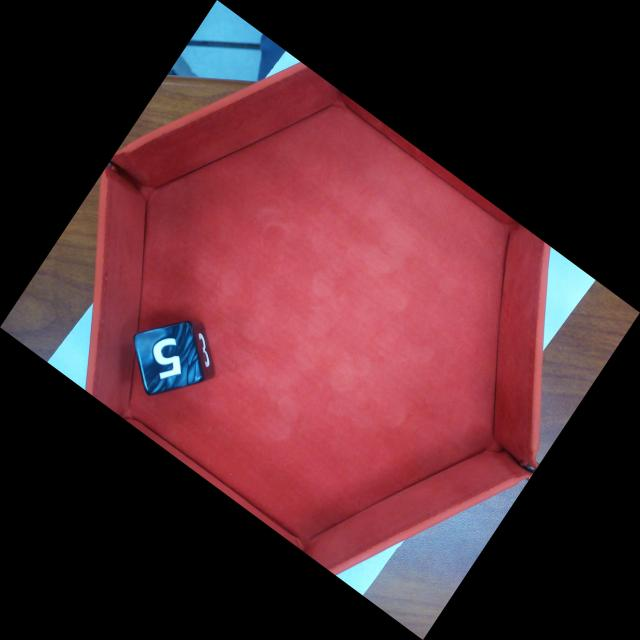dice: (132, 320, 205, 396)
